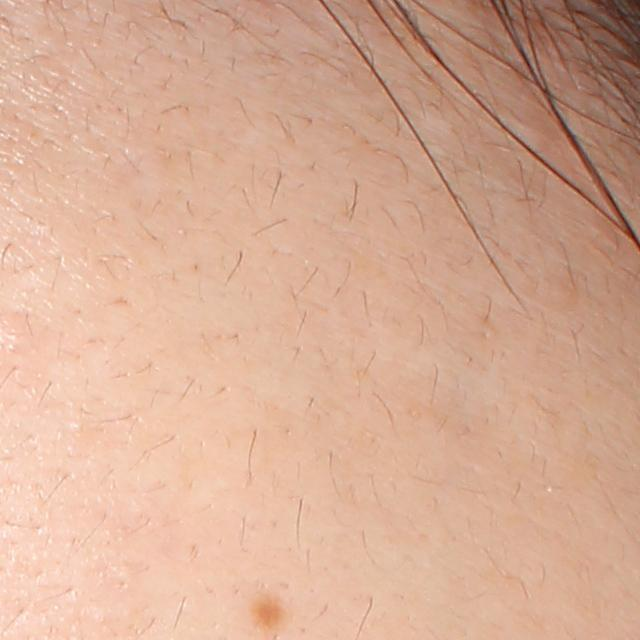nevus: (250, 591, 289, 634)
